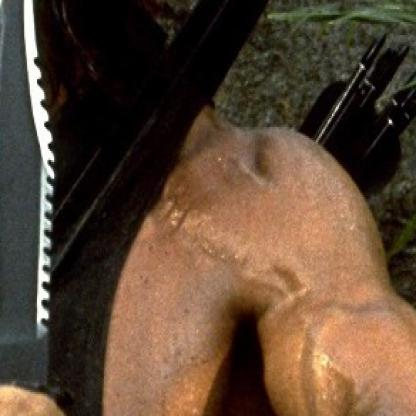knife: (0, 0, 71, 414)
